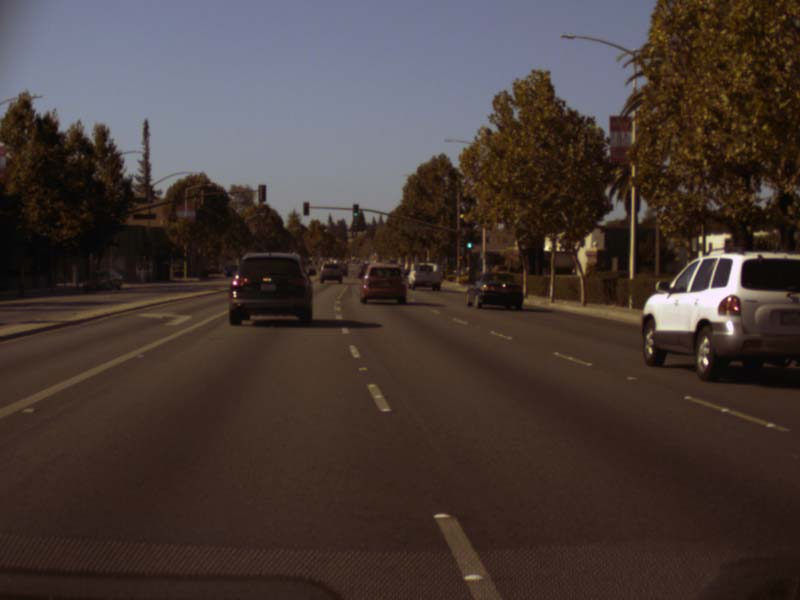Green: (466, 233, 472, 249), (352, 204, 359, 217)
